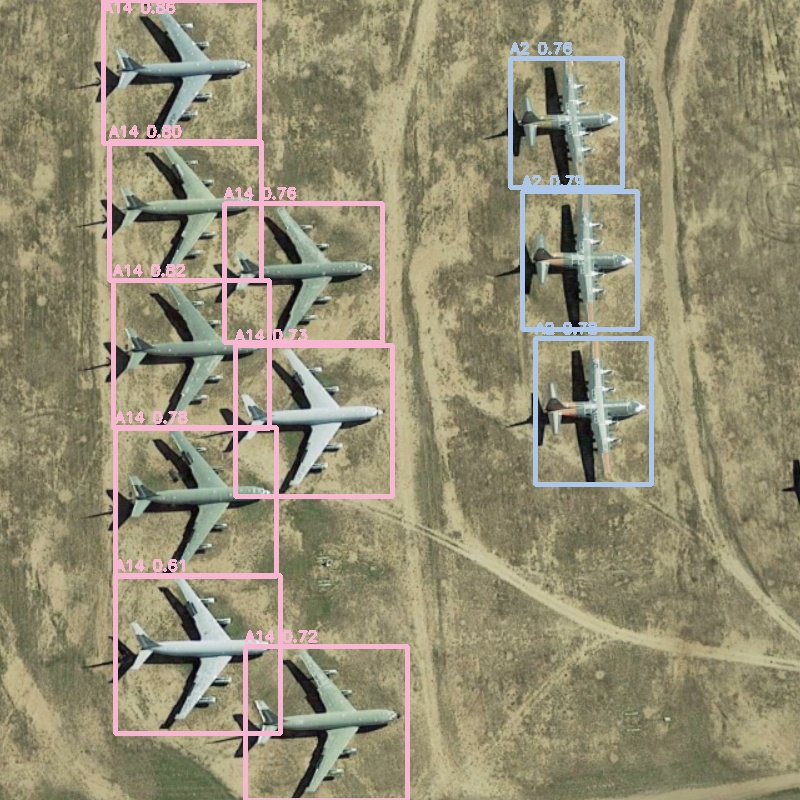A14: (115, 575, 280, 733), (245, 646, 407, 800), (115, 427, 276, 576), (235, 345, 392, 496), (113, 280, 269, 428), (103, 0, 259, 143), (224, 203, 382, 342), (109, 141, 261, 280)
A2: (535, 338, 651, 484), (522, 191, 637, 329), (510, 58, 622, 187)
